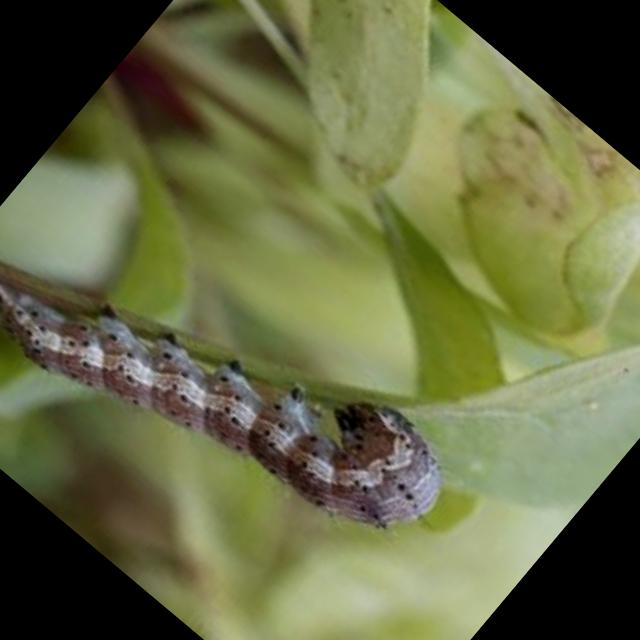Cotton bollworm: (0, 138, 499, 640)
